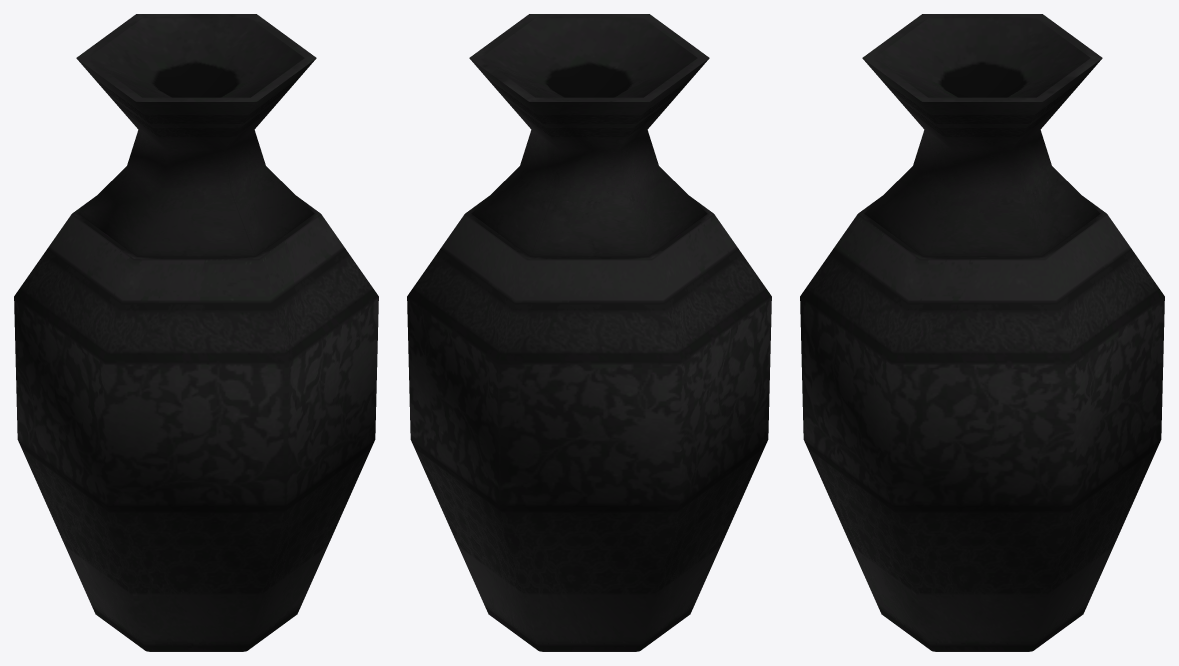
The model's file is dub_vase_01_lod2.glb.
The picture shows the model from 3 angles, left to right: view 1: azimuth 30°, elevation 25°; view 2: azimuth 150°, elevation 25°; view 3: azimuth 270°, elevation 25°; orthographic projection.
Visible parts, largest first — view 1: surf0; view 2: surf0; view 3: surf0.
Boxes of the visible parts, <box> form: surf0: <box>14,14,378,651</box>; surf0: <box>407,14,771,651</box>; surf0: <box>800,14,1164,651</box>.
Size of the model in its own units: 10.6 by 20.74 by 12.24.
